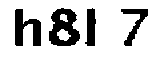7: (117, 5, 159, 59)
8: (47, 6, 82, 48)
h: (9, 5, 45, 53)
l: (84, 2, 104, 53)
